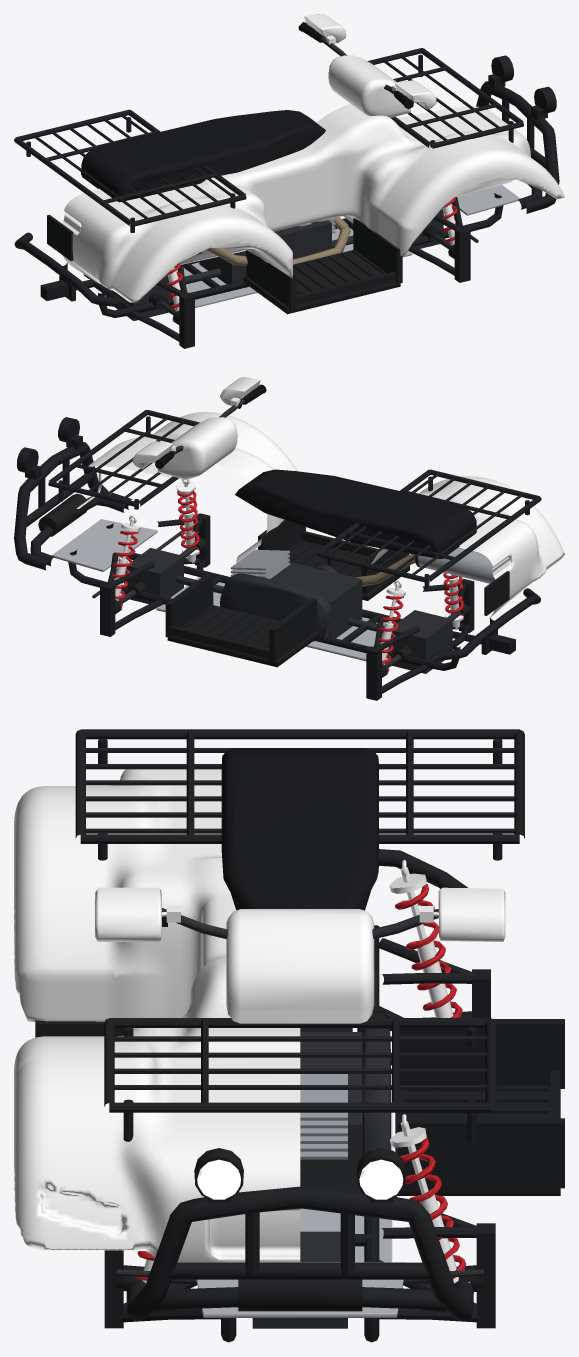
Rendered from body-z2-lod.glb.
3 views of the same model, one above another, from view 1: azimuth 30°, elevation 25°; view 2: azimuth 150°, elevation 25°; view 3: azimuth 270°, elevation 25° (orthographic). The views are drawn at different scales.
Parts seen in each view (by area): view 1: body, part_1, part_0, part_3; view 2: part_1, body, part_0, part_3, part_2; view 3: part_1, body, part_0, part_3, part_2.
Part boxes in pixels (<box>): body: <box>62,103,564,302</box>; part_1: <box>14,22,520,348</box>; part_0: <box>14,48,523,232</box>; part_3: <box>304,14,559,213</box>; part_1: <box>52,384,540,700</box>; body: <box>76,412,564,618</box>; part_0: <box>48,410,541,588</box>; part_3: <box>14,377,260,570</box>; part_2: <box>30,496,125,566</box>; part_1: <box>35,748,564,1342</box>; body: <box>14,769,300,1262</box>; part_0: <box>75,729,524,1141</box>; part_3: <box>95,887,505,1321</box>; part_2: <box>153,1287,447,1312</box>.
Bounding box in the file's own units: 2.23 × 0.8878 × 1.16.
